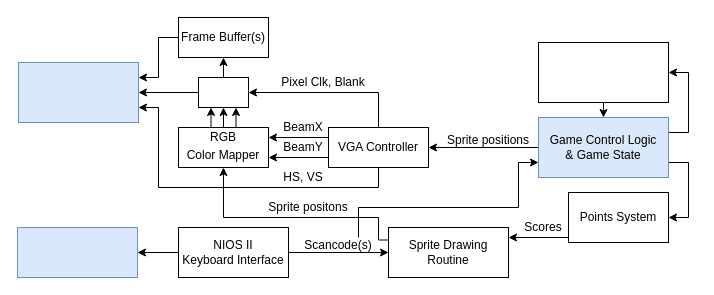
Some shapes in this 714 by 295 pixel diagram are drawn without their labels. Here are the shapes that lost their labels. From the top down, the box of each, then its label:
(18, 62, 138, 122): FPGA Monitor (640 x 480 display)
(198, 76, 248, 108): DAC
(538, 42, 668, 102): Game Difficulty & Obstacle Generator
(16, 226, 138, 278): USB Keyboard
